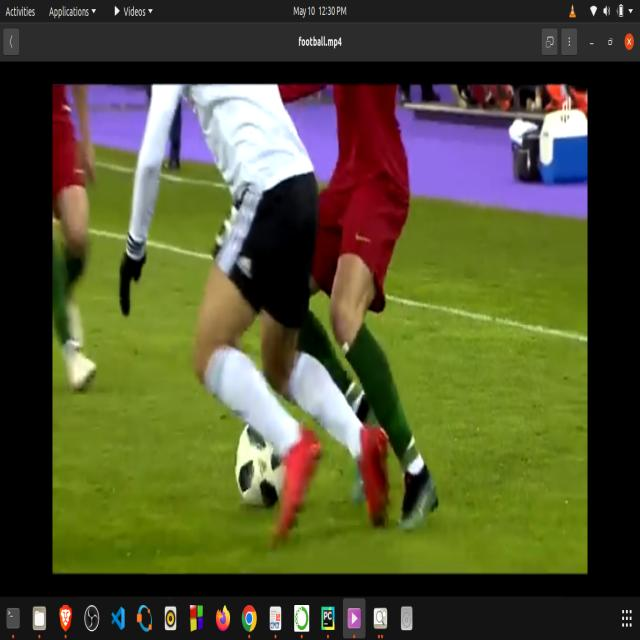Ball: (226, 413, 288, 507)
football-players: (109, 91, 396, 560), (316, 92, 443, 542), (52, 86, 106, 403)
